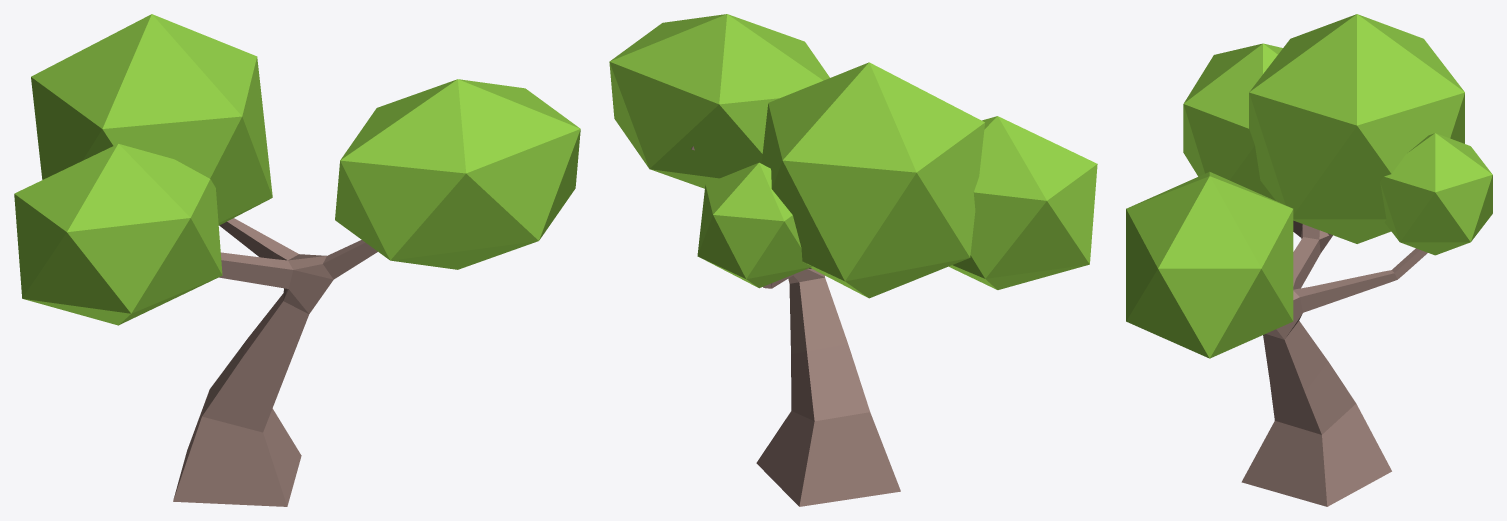
Rendered from pohon2.glb.
3 views of the same model, side by side, from view 1: azimuth 30°, elevation 25°; view 2: azimuth 150°, elevation 25°; view 3: azimuth 270°, elevation 25° (orthographic). The views are drawn at different scales.
Visible parts, largest first — view 1: Icosphere.007, Icosphere.006, Icosphere.005, Plane; view 2: Icosphere.006, Icosphere.007, Plane, Icosphere.005, Icosphere.004; view 3: Icosphere.006, Icosphere.007, Plane, Icosphere.004, Icosphere.005.
Boxes of the visible parts, x1=… form: Icosphere.007: x1=335, y1=79, x2=580, y2=269; Icosphere.006: x1=31, y1=14, x2=272, y2=225; Icosphere.005: x1=14, y1=143, x2=222, y2=325; Plane: x1=173, y1=218, x2=377, y2=506; Icosphere.006: x1=761, y1=62, x2=984, y2=298; Icosphere.007: x1=609, y1=14, x2=829, y2=188; Plane: x1=691, y1=146, x2=900, y2=506; Icosphere.005: x1=949, y1=116, x2=1097, y2=289; Icosphere.004: x1=697, y1=162, x2=811, y2=288; Icosphere.006: x1=1249, y1=14, x2=1464, y2=243; Icosphere.007: x1=1126, y1=171, x2=1293, y2=358; Plane: x1=1241, y1=220, x2=1427, y2=506; Icosphere.004: x1=1380, y1=133, x2=1492, y2=255; Icosphere.005: x1=1183, y1=43, x2=1282, y2=200.
Size of the model in its own units: 5.76 by 4.89 by 3.73.
